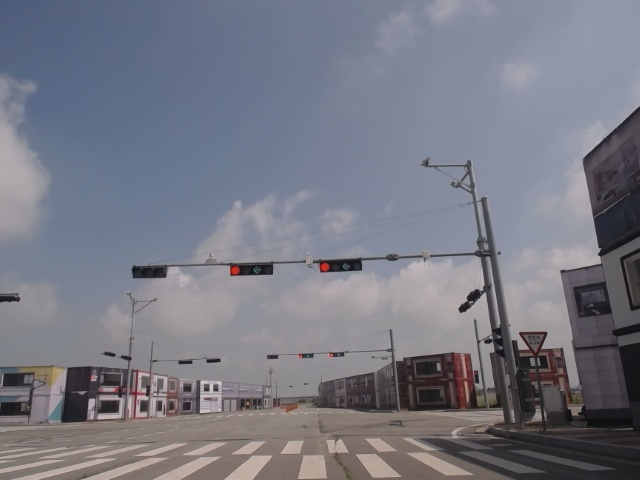left_green_4: (319, 260, 363, 272), (230, 264, 273, 276)
